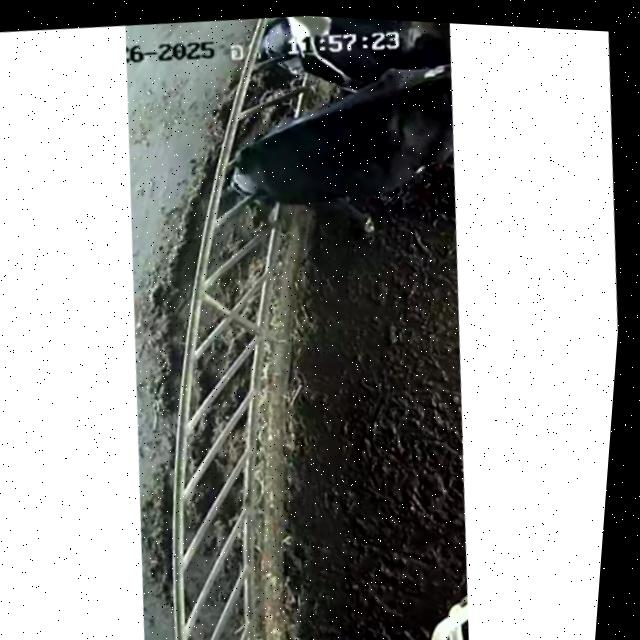eat: (178, 113, 363, 242)
